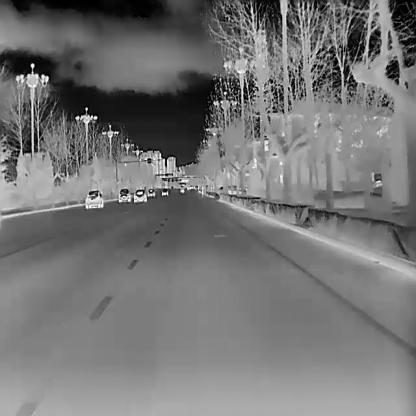car: (85, 188, 103, 208), (133, 188, 147, 202), (118, 187, 131, 201), (147, 188, 155, 197), (161, 188, 168, 196)
